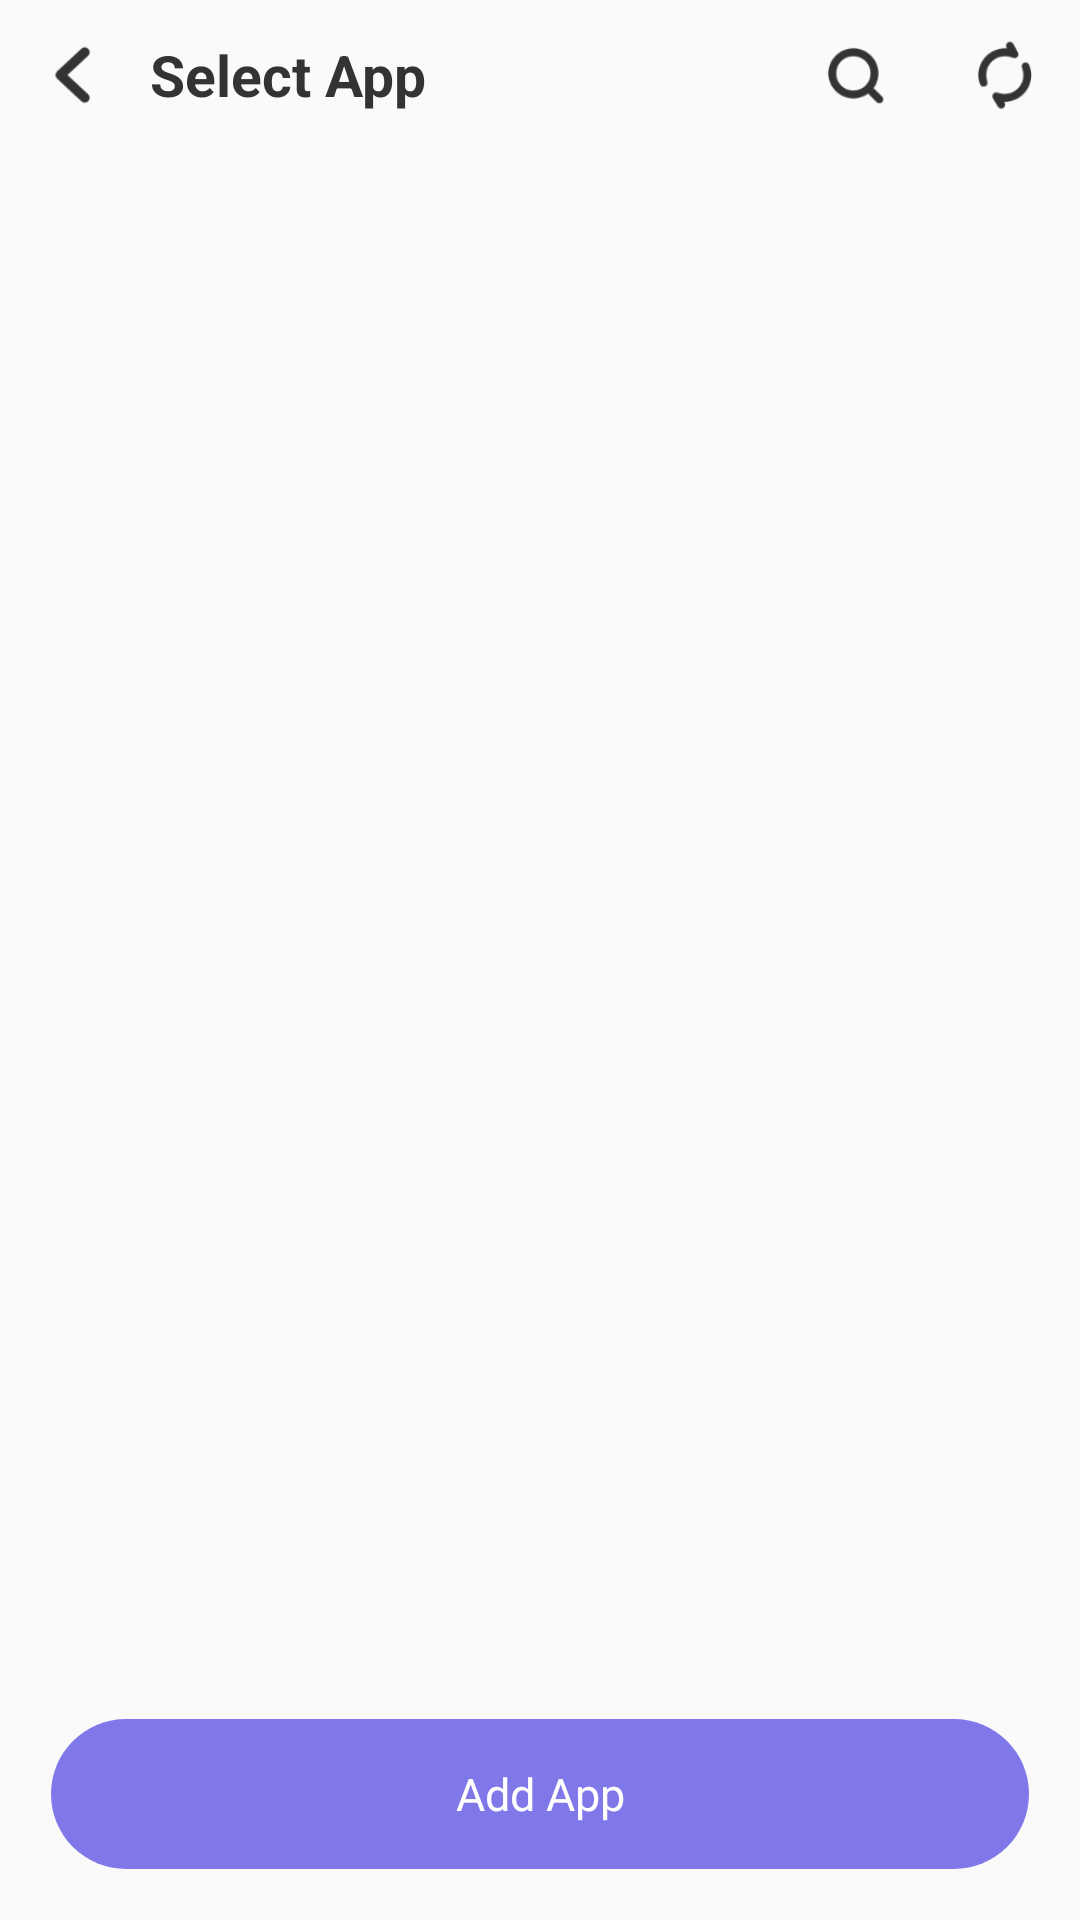

Screen size 1080×1920. Icon name, then its center in pixels as (x,y):
back: (72,75)
refresh: (1005,75)
search: (856,76)
